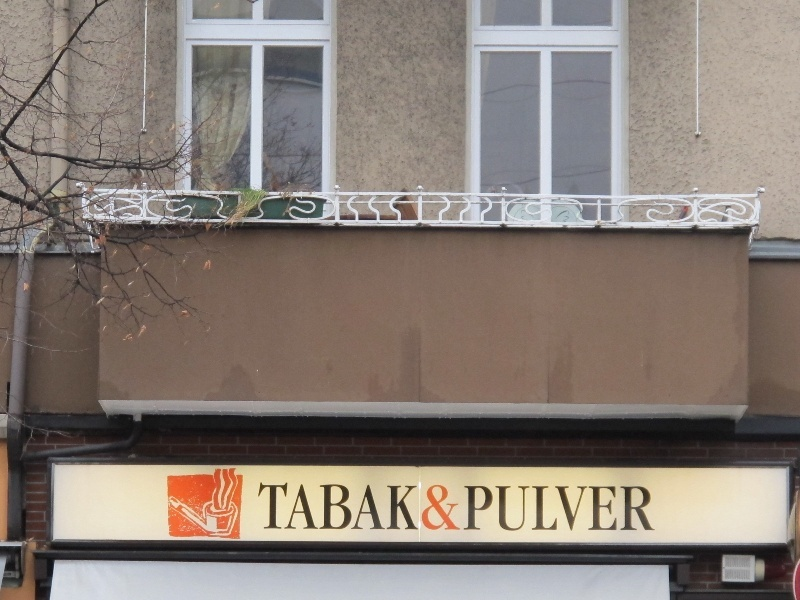text: (273, 482, 288, 529), (289, 482, 304, 529), (305, 482, 320, 529), (321, 482, 336, 529), (337, 482, 352, 529), (353, 482, 368, 529), (369, 482, 384, 529), (385, 482, 400, 529), (401, 482, 416, 529), (465, 486, 480, 532), (481, 486, 496, 532), (497, 486, 512, 532), (513, 486, 528, 532), (529, 486, 544, 532), (545, 486, 560, 532), (561, 486, 576, 532), (577, 486, 592, 532), (593, 486, 608, 532), (609, 486, 624, 532), (625, 486, 640, 532), (433, 485, 448, 530), (258, 482, 272, 529), (641, 486, 655, 532), (449, 485, 460, 530), (423, 485, 432, 530), (417, 482, 418, 529)
